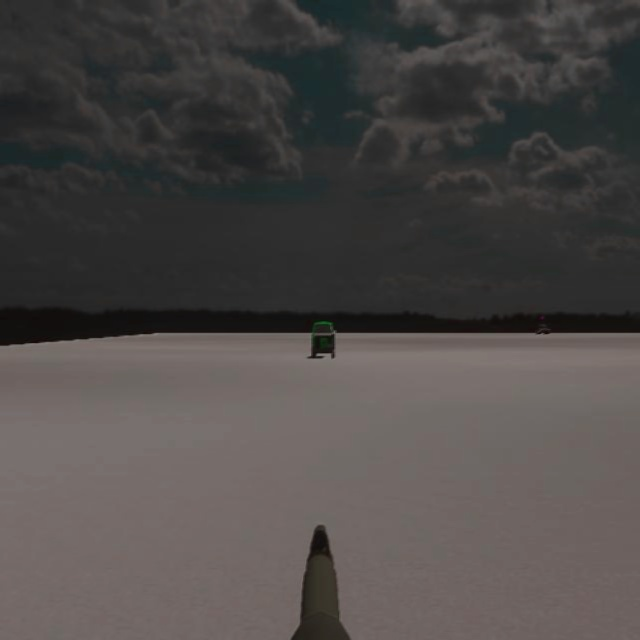green_car: (305, 320, 336, 360)
